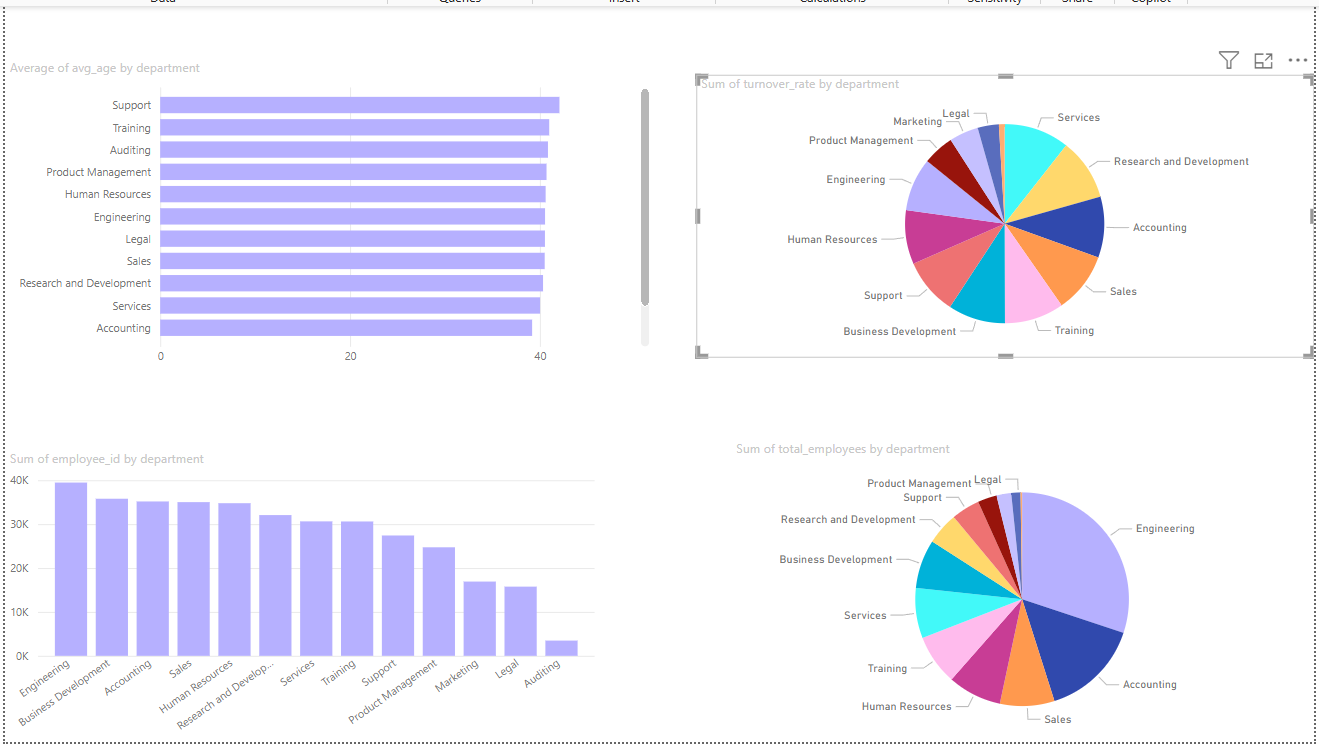

This screenshot's page, from the dashboard's own definition file:
{"tool":"powerbi","page":{"name":"Page 1","canvas":[1280,720],"ordinal":0},"visuals":[{"type":"barChart","fields":{"Category":["DimDepartment.department"],"Y":["Avg(FactEmployee.avg_age)"]},"box":[0,50.8,635.3,308.7],"z":0},{"type":"pieChart","fields":{"Y":["Sum(FactEmployee.turnover_rate)"],"Category":["DimDepartment.department"]},"box":[676.5,67.2,603.8,275.8],"z":1},{"type":"pieChart","fields":{"Category":["DimDepartment.department"],"Y":["Sum(FactEmployee.total_employees)"]},"box":[710.8,424,569.5,296.4],"z":2},{"type":"columnChart","fields":{"Category":["DimDepartment.department"],"Y":["Sum(FactEmployee.employee_id)"]},"box":[0,433.6,581.8,286.8],"z":3}]}

Visuals, with their boxes on the page's 1280x720 design canvas (x1, y1, x2, y2). These are canvas units, not pixel positions in the 1319x747 screenshot, which may show the page scaled, cropped or inside an application window:
barChart - DimDepartment.department x Avg(FactEmployee.avg_age): <region>0, 51, 635, 360</region>
pieChart - Sum(FactEmployee.turnover_rate) x DimDepartment.department: <region>676, 67, 1280, 343</region>
pieChart - DimDepartment.department x Sum(FactEmployee.total_employees): <region>711, 424, 1280, 720</region>
columnChart - DimDepartment.department x Sum(FactEmployee.employee_id): <region>0, 434, 582, 720</region>
